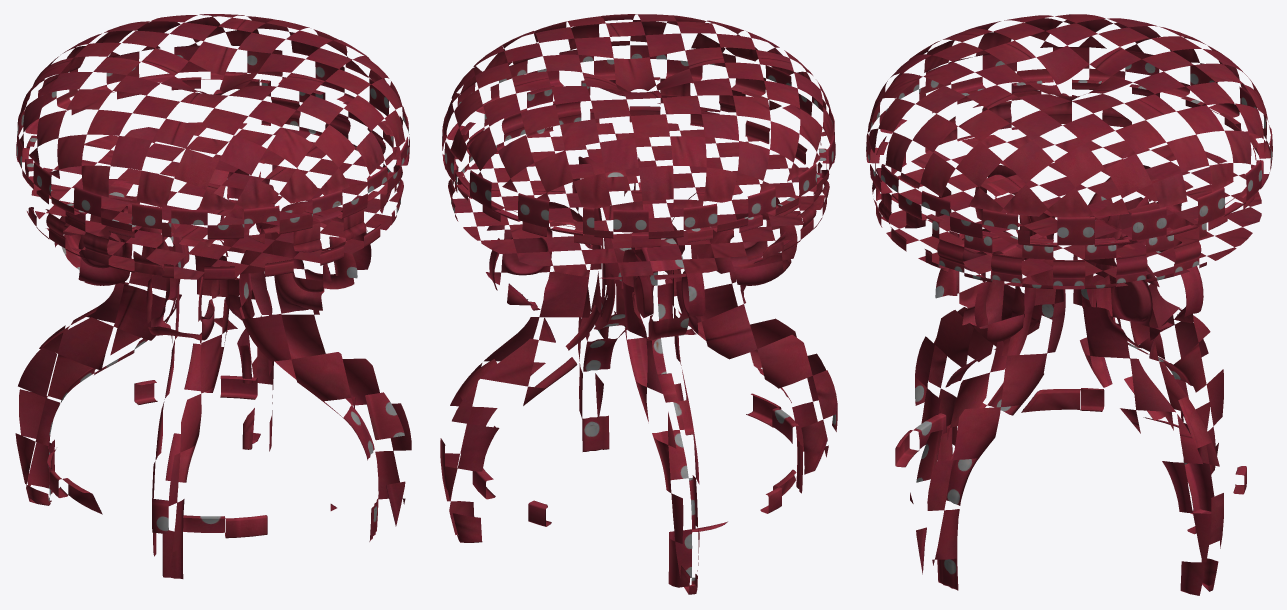
3 views of the same model, side by side, from view 1: azimuth 30°, elevation 25°; view 2: azimuth 150°, elevation 25°; view 3: azimuth 270°, elevation 25° (orthographic). The views are drawn at different scales.
Visible parts, largest first — view 1: chair_foot_low.003; view 2: chair_foot_low.003; view 3: chair_foot_low.003.
Part boxes in pixels (x1=…): chair_foot_low.003: x1=15, y1=14, x2=411, y2=578; chair_foot_low.003: x1=440, y1=14, x2=837, y2=594; chair_foot_low.003: x1=866, y1=14, x2=1272, y2=595.
Bounding box in the file's own units: 111 × 140 × 111.
1 material, 1 textured.
